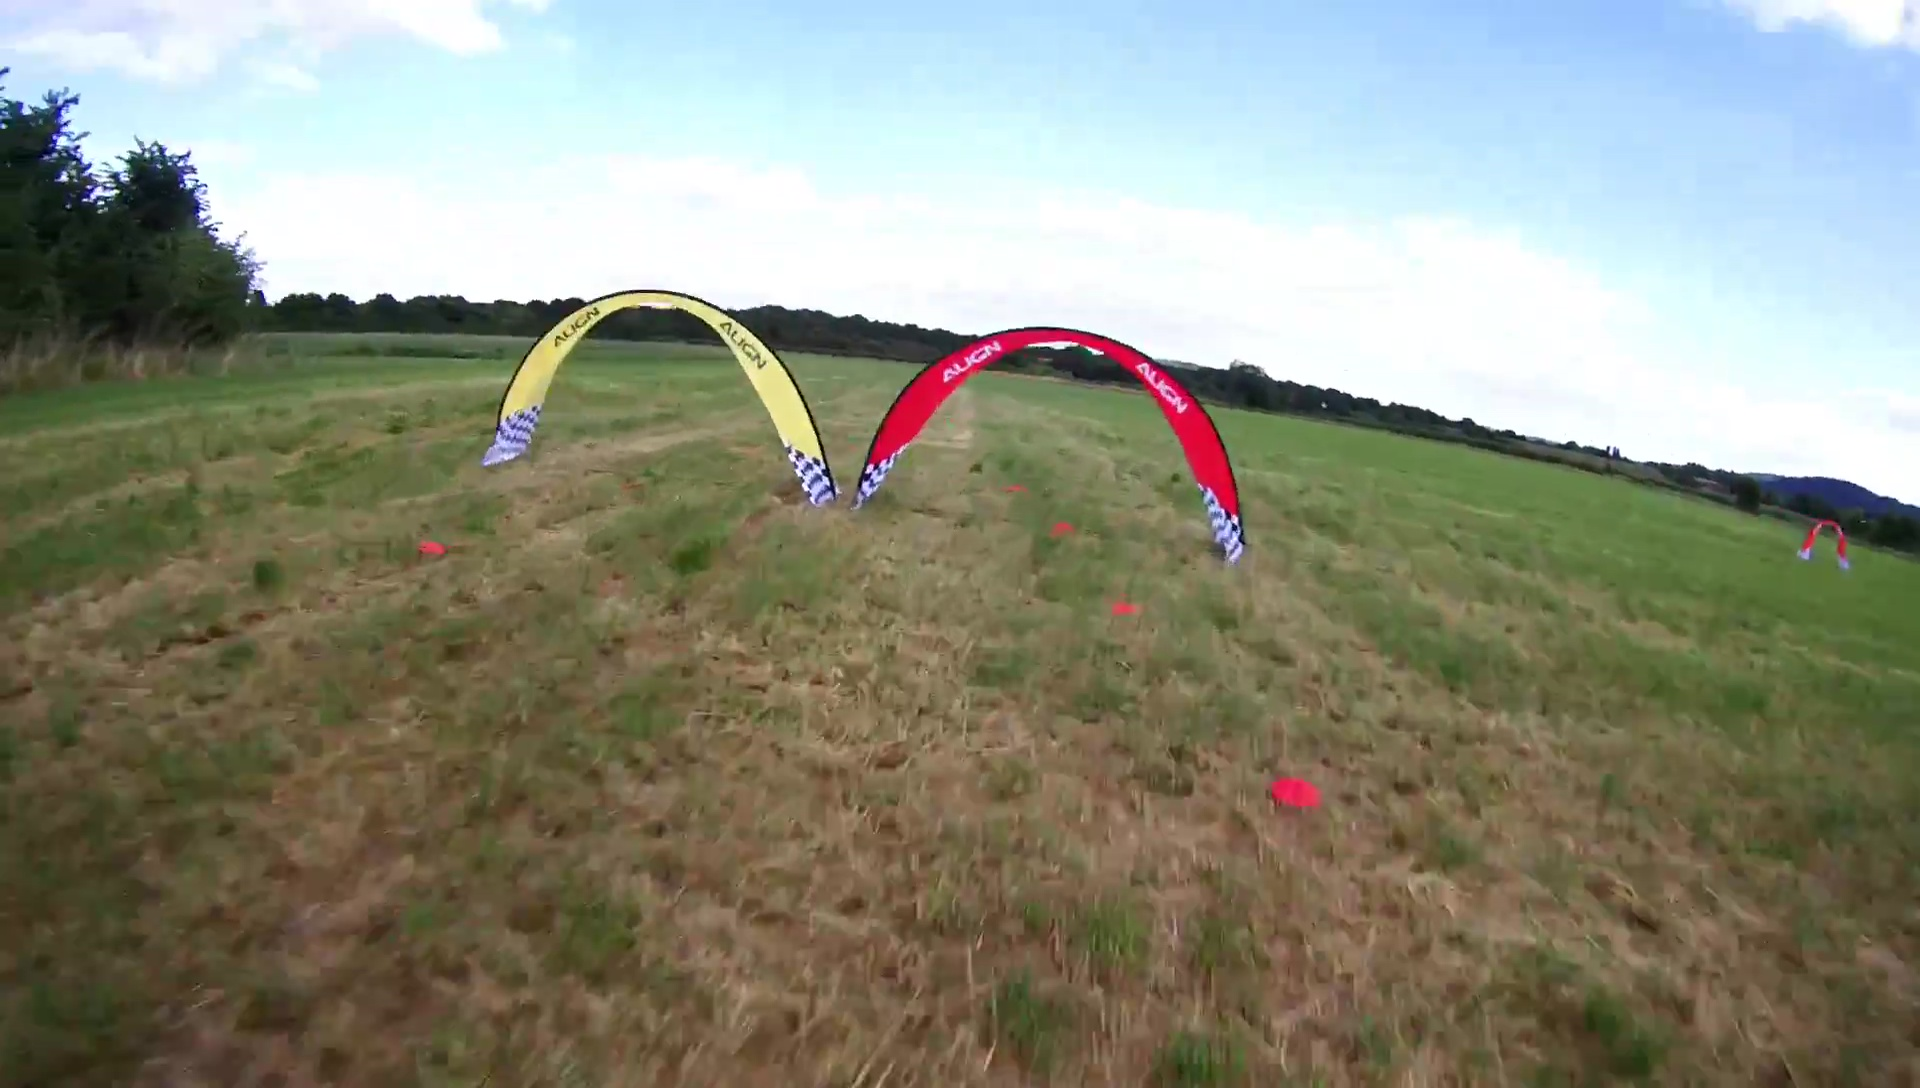gate: (852, 324, 1250, 563), (481, 289, 841, 506), (1795, 518, 1850, 572)
